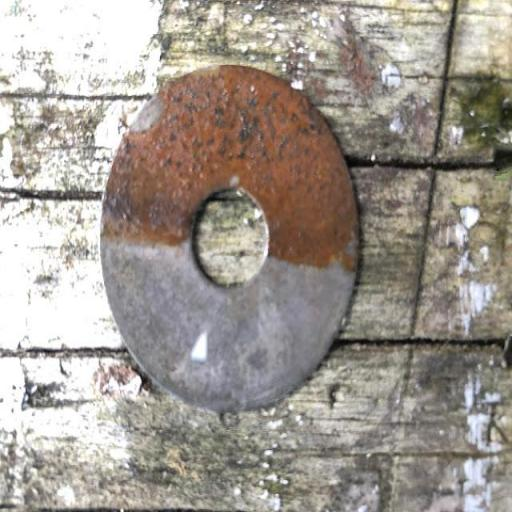segmentation: (100, 65, 358, 411)
